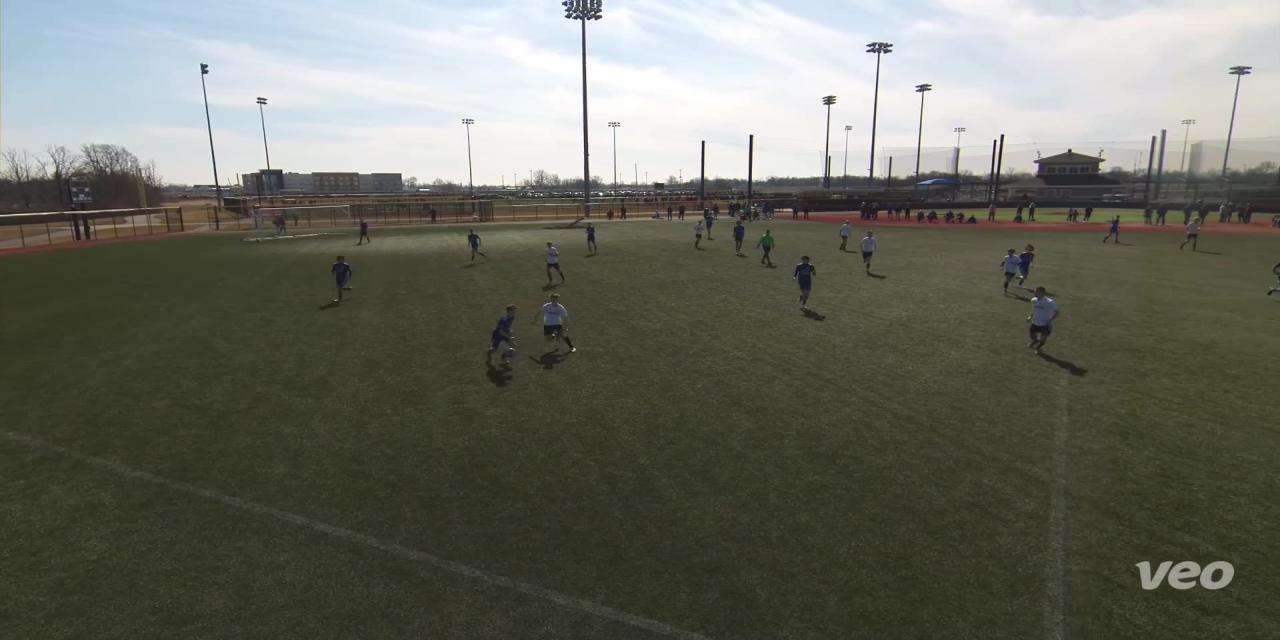goal: (235, 203, 369, 248)
sports ball: (500, 345, 524, 366)
